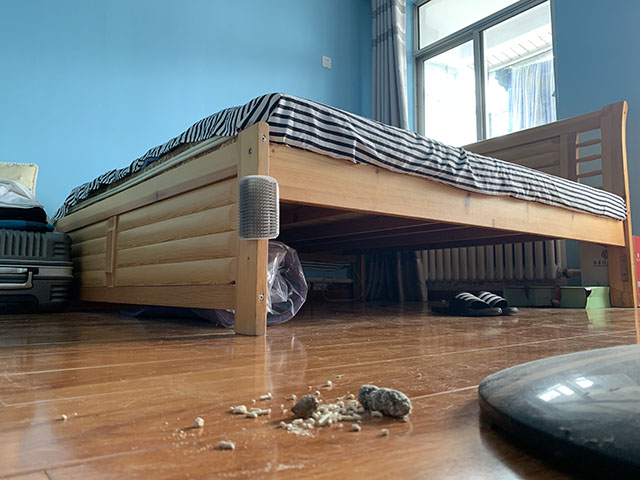bed: (51, 89, 639, 338)
feces: (358, 383, 413, 421), (290, 394, 319, 420)
slippers: (429, 288, 519, 316)
